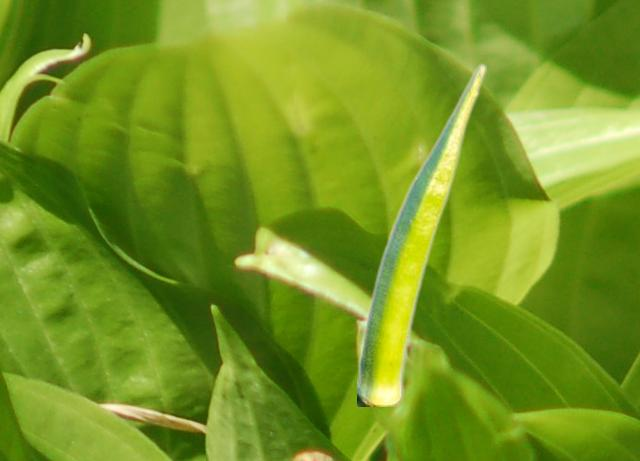okra: (357, 62, 485, 405)
